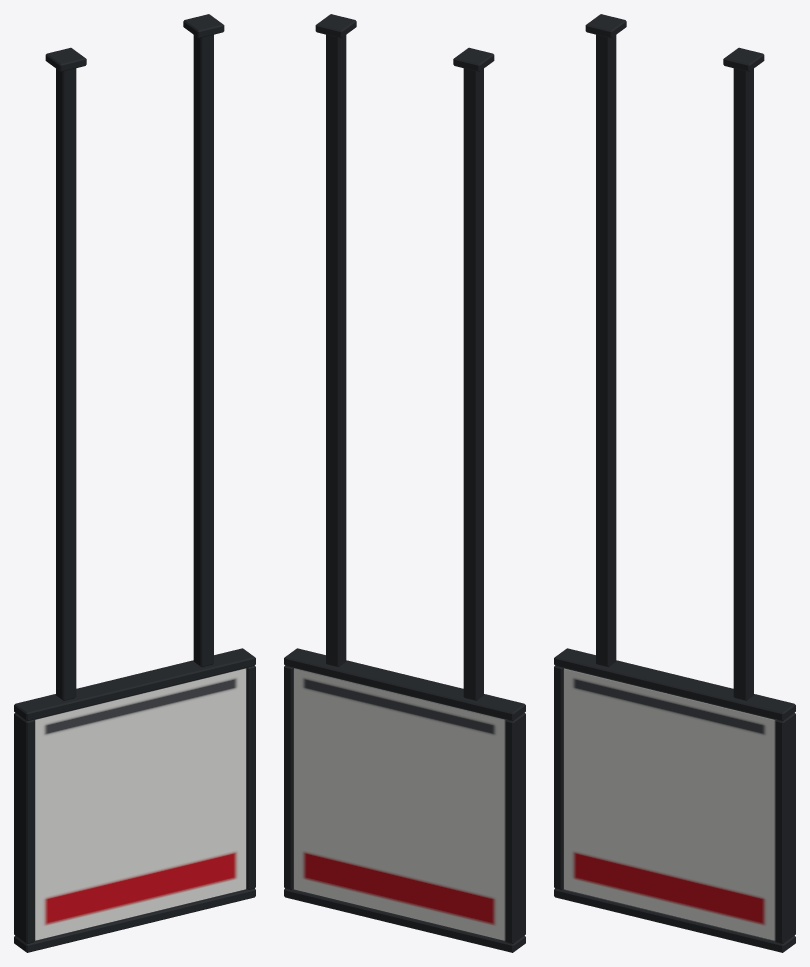
Rendered from track_sign_hang_tokyu.fbx.
The picture shows the model from 3 angles, left to right: view 1: azimuth 30°, elevation 25°; view 2: azimuth 150°, elevation 25°; view 3: azimuth 330°, elevation 25°; orthographic projection.
Visible parts, largest first — view 1: track_sign_hang_tokyu; view 2: track_sign_hang_tokyu; view 3: track_sign_hang_tokyu.
Part boxes in pixels (x1=…): track_sign_hang_tokyu: x1=14, y1=14, x2=255, y2=952; track_sign_hang_tokyu: x1=284, y1=14, x2=525, y2=952; track_sign_hang_tokyu: x1=554, y1=14, x2=795, y2=952.
Bounding box in the file's own units: 0.6 × 0.07 × 2.2.
Materials: 1 (1 with a texture image).
